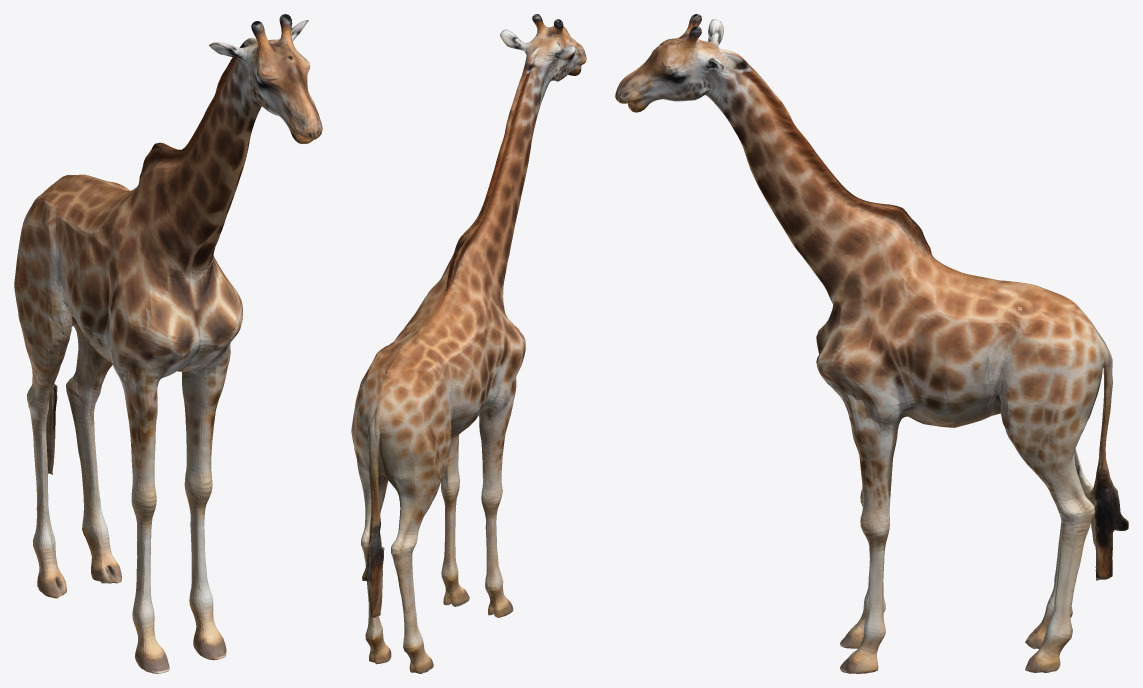
File: giraffe_texture.obj
The picture shows the model from 3 angles, left to right: view 1: azimuth 30°, elevation 25°; view 2: azimuth 150°, elevation 25°; view 3: azimuth 270°, elevation 25°; orthographic projection. The views are drawn at different scales.
Parts seen in each view (by area): view 1: giraffe_texture; view 2: giraffe_texture; view 3: giraffe_texture.
Boxes of the visible parts, x1=… form: giraffe_texture: x1=14, y1=14, x2=322, y2=673; giraffe_texture: x1=351, y1=14, x2=586, y2=673; giraffe_texture: x1=615, y1=14, x2=1128, y2=673.
Bounding box in the file's own units: 0.3319 × 2 × 1.46.
1 material, 1 textured.
